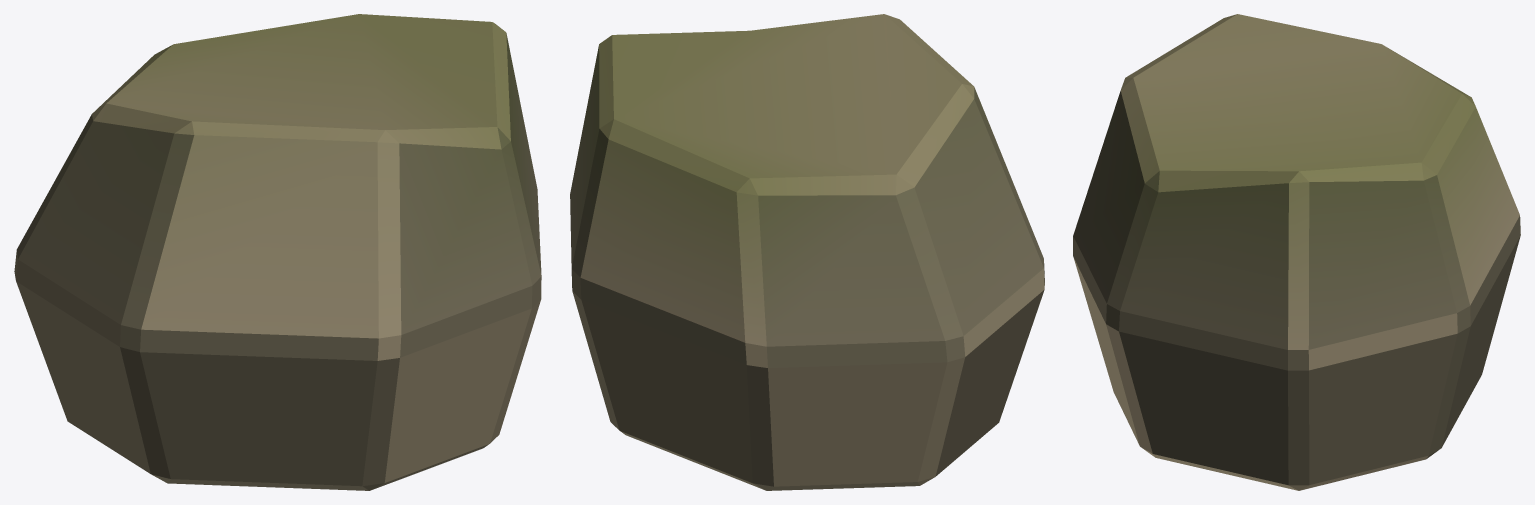
File: rock.glb
3 views of the same model, side by side, from view 1: azimuth 30°, elevation 25°; view 2: azimuth 150°, elevation 25°; view 3: azimuth 270°, elevation 25° (orthographic). The views are drawn at different scales.
Parts seen in each view (by area): view 1: rock; view 2: rock; view 3: rock.
Boxes of the visible parts, x1=… form: rock: x1=14, y1=14, x2=541, y2=490; rock: x1=570, y1=14, x2=1044, y2=490; rock: x1=1073, y1=14, x2=1520, y2=490.
Size of the model in its own units: 1.46 by 1.08 by 1.32.
